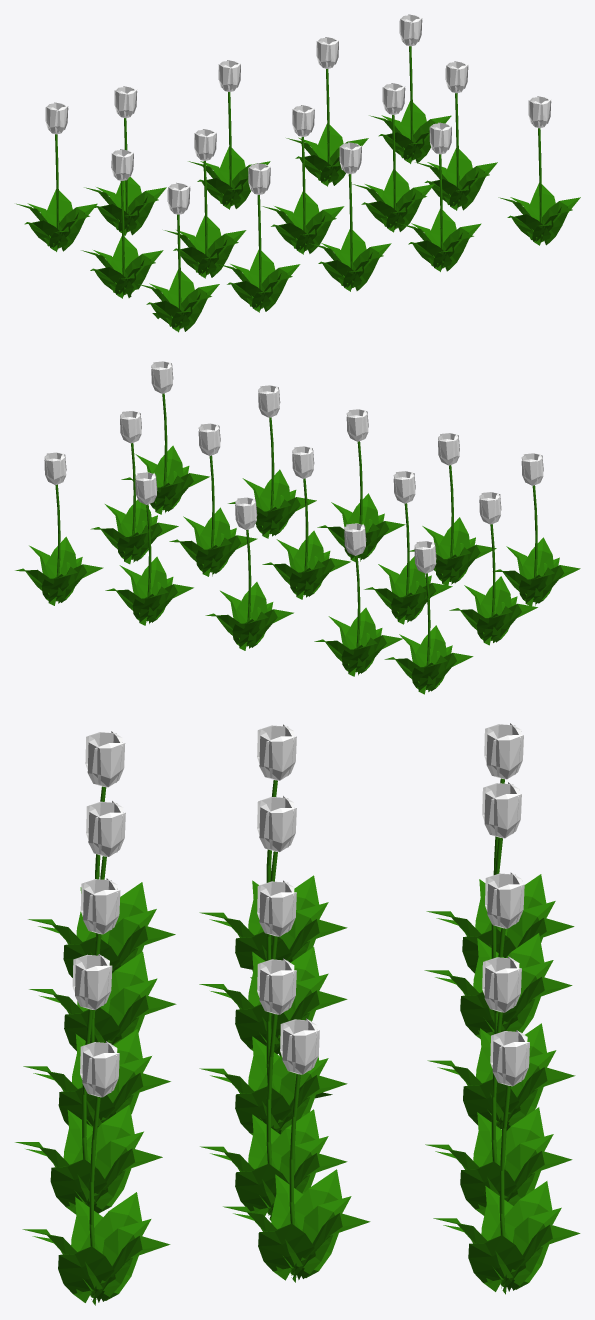
File: Naturaleza.obj
3 views of the same model, one above another, from view 1: azimuth 30°, elevation 25°; view 2: azimuth 150°, elevation 25°; view 3: azimuth 270°, elevation 25° (orthographic). The views are drawn at different scales.
Visible parts, largest first — view 1: tulip, Cabezas, Object001; view 2: tulip, Cabezas, Object001; view 3: tulip, Cabezas, Object001.
Boxes of the visible parts, x1,y1,x2,y2 form: tulip: (16,46,580,332); Cabezas: (45,14,551,214); Object001: (295,126,561,236); tulip: (15,393,580,694); Cabezas: (44,361,543,573); Object001: (109,442,274,625); tulip: (15,778,580,1305); Cabezas: (72,723,529,1097); Object001: (58,1084,566,1299).
Size of the model in its own units: 86.14 by 34.64 by 54.14.
